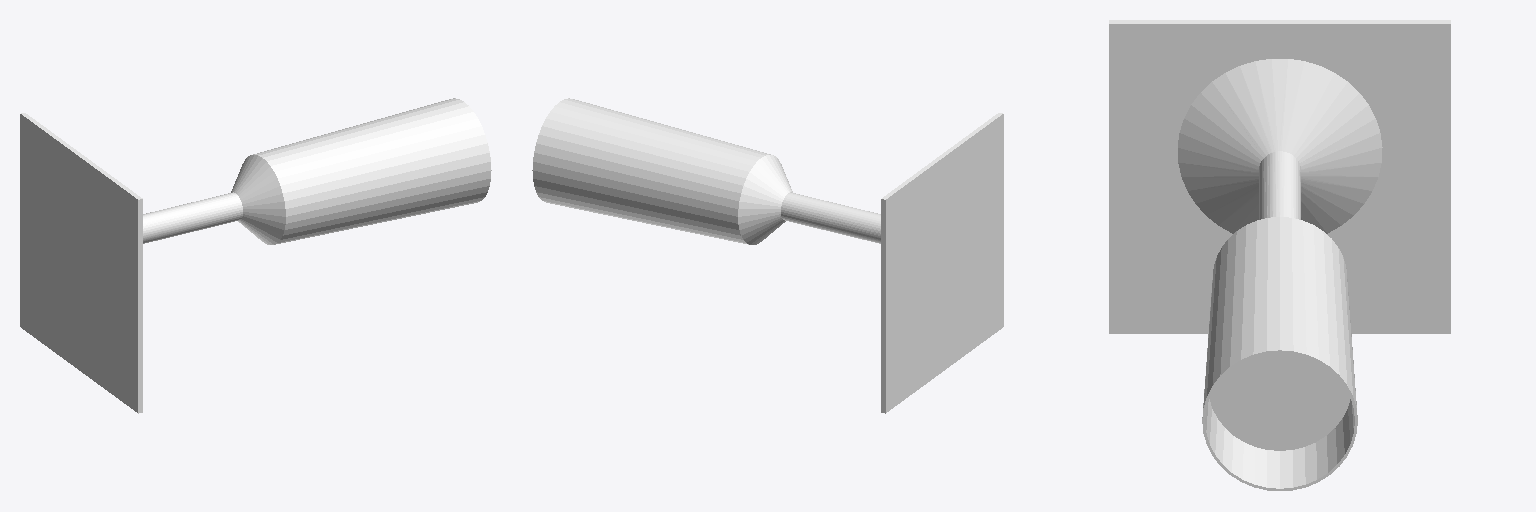
URDF robot description (gen3_robotiq_2f_85):
<?xml version="1.0" ?>
<!-- =================================================================================== -->
<!-- |    This document was autogenerated by xacro from gen3_robotiq_2f_85.xacro       | -->
<!-- |    EDITING THIS FILE BY HAND IS NOT RECOMMENDED                                 | -->
<!-- =================================================================================== -->
<robot name="gen3_robotiq_2f_85">
  <!-- Run the macros -->
  <link name="base">
    <inertial>
      <origin rpy="0 0 0" xyz="-0.000648 -0.000166 0.084487"/>
      <mass value="1.697"/>
      <inertia ixx="0.004622" ixy="9E-06" ixz="6E-05" iyy="0.004495" iyz="9E-06" izz="0.002079"/>
    </inertial>
    <visual>
      <origin rpy="0 0 0" xyz="0 0 0"/>
      <geometry>
        <mesh filename="meshes/base_link.obj"/>
      </geometry>
      <material name="">
        <color rgba="0.75294 0.75294 0.75294 1"/>
      </material>
    </visual>
    <collision>
      <origin rpy="0 0 0" xyz="0 0 0"/>
      <geometry>
        <mesh filename="meshes/base_link.obj"/>
      </geometry>
    </collision>
  </link>

  <link name="shoulder_link">
    <inertial>
      <origin rpy="0 0 0" xyz="-2.3E-05 -0.010364 -0.07336"/>
      <mass value="1.3773"/>
      <inertia ixx="0.00457" ixy="1E-06" ixz="2E-06" iyy="0.004831" iyz="0.000448" izz="0.001409"/>
    </inertial>
    <visual>
      <origin rpy="0 0 0" xyz="0 0 0"/>
      <geometry>
        <mesh filename="meshes/shoulder_link.obj"/>
      </geometry>
      <material name="">
        <color rgba="0.75294 0.75294 0.75294 1"/>
      </material>
    </visual>
    <collision>
      <origin rpy="0 0 0" xyz="0 0 0"/>
      <geometry>
        <mesh filename="meshes/shoulder_link.obj"/>
      </geometry>
    </collision>
  </link>

  <joint name="joint_1" type="continuous">
    <origin rpy="3.1416 2.7629E-18 -4.9305E-36" xyz="0 0 0.15643"/>
    <parent link="base"/>
    <child link="shoulder_link"/>
    <axis xyz="0 0 1"/>
    <limit effort="39" velocity="1.3963"/>
  </joint>

  <link name="half_arm_1_link">
    <inertial>
      <origin rpy="0 0 0" xyz="-4.4E-05 -0.09958 -0.013278"/>
      <mass value="1.1636"/>
      <inertia ixx="0.011088" ixy="5E-06" ixz="0" iyy="0.001072" iyz="-0.000691" izz="0.011255"/>
    </inertial>
    <visual>
      <origin rpy="0 0 0" xyz="0 0 0"/>
      <geometry>
        <mesh filename="meshes/half_arm_1_link.obj"/>
      </geometry>
      <material name="">
        <color rgba="0.75294 0.75294 0.75294 1"/>
      </material>
    </visual>
    <collision>
      <origin rpy="0 0 0" xyz="0 0 0"/>
      <geometry>
        <mesh filename="meshes/half_arm_1_link.obj"/>
      </geometry>
    </collision>
  </link>

  <joint name="joint_2" type="revolute">
    <origin rpy="1.5708 2.1343E-17 -1.1102E-16" xyz="0 0.005375 -0.12838"/>
    <parent link="shoulder_link"/>
    <child link="half_arm_1_link"/>
    <axis xyz="0 0 1"/>
    <limit effort="39" lower="-2.41" upper="2.41" velocity="1.3963"/>
  </joint>

  <link name="half_arm_2_link">
    <inertial>
      <origin rpy="0 0 0" xyz="-4.4E-05 -0.006641 -0.117892"/>
      <mass value="1.1636"/>
      <inertia ixx="0.010932" ixy="0" ixz="-7E-06" iyy="0.011127" iyz="0.000606" izz="0.001043"/>
    </inertial>
    <visual>
      <origin rpy="0 0 0" xyz="0 0 0"/>
      <geometry>
        <mesh filename="meshes/half_arm_2_link.obj"/>
      </geometry>
      <material name="">
        <color rgba="0.75294 0.75294 0.75294 1"/>
      </material>
    </visual>
    <collision>
      <origin rpy="0 0 0" xyz="0 0 0"/>
      <geometry>
        <mesh filename="meshes/half_arm_2_link.obj"/>
      </geometry>
    </collision>
  </link>

  <joint name="joint_3" type="continuous">
    <origin rpy="-1.5708 1.2326E-32 -2.9122E-16" xyz="0 -0.21038 -0.006375"/>
    <parent link="half_arm_1_link"/>
    <child link="half_arm_2_link"/>
    <axis xyz="0 0 1"/>
    <limit effort="39" velocity="1.3963"/>
  </joint>

  <link name="forearm_link">
    <inertial>
      <origin rpy="0 0 0" xyz="-1.8E-05 -0.075478 -0.015006"/>
      <mass value="0.9302"/>
      <inertia ixx="0.008147" ixy="-1E-06" ixz="0" iyy="0.000631" iyz="-0.0005" izz="0.008316"/>
    </inertial>
    <visual>
      <origin rpy="0 0 0" xyz="0 0 0"/>
      <geometry>
        <mesh filename="meshes/forearm_link.obj"/>
      </geometry>
      <material name="">
        <color rgba="0.75294 0.75294 0.75294 1"/>
      </material>
    </visual>
    <collision>
      <origin rpy="0 0 0" xyz="0 0 0"/>
      <geometry>
        <mesh filename="meshes/forearm_link.obj"/>
      </geometry>
    </collision>
  </link>

  <joint name="joint_4" type="revolute">
    <origin rpy="1.5708 -6.6954E-17 -1.6653E-16" xyz="0 0.006375 -0.21038"/>
    <parent link="half_arm_2_link"/>
    <child link="forearm_link"/>
    <axis xyz="0 0 1"/>
    <limit effort="39" lower="-2.66" upper="2.66" velocity="1.3963"/>
  </joint>

  <link name="spherical_wrist_1_link">
    <inertial>
      <origin rpy="0 0 0" xyz="1E-06 -0.009432 -0.063883"/>
      <mass value="0.6781"/>
      <inertia ixx="0.001596" ixy="0" ixz="0" iyy="0.001607" iyz="0.000256" izz="0.000399"/>
    </inertial>
    <visual>
      <origin rpy="0 0 0" xyz="0 0 0"/>
      <geometry>
        <mesh filename="meshes/spherical_wrist_1_link.obj"/>
      </geometry>
      <material name="">
        <color rgba="0.75294 0.75294 0.75294 1"/>
      </material>
    </visual>
    <collision>
      <origin rpy="0 0 0" xyz="0 0 0"/>
      <geometry>
        <mesh filename="meshes/spherical_wrist_1_link.obj"/>
      </geometry>
    </collision>
  </link>

  <joint name="joint_5" type="continuous">
    <origin rpy="-1.5708 2.2204E-16 -6.373E-17" xyz="0 -0.20843 -0.006375"/>
    <parent link="forearm_link"/>
    <child link="spherical_wrist_1_link"/>
    <axis xyz="0 0 1"/>
    <limit effort="9" velocity="1.2218"/>
  </joint>

  <link name="spherical_wrist_2_link">
    <inertial>
      <origin rpy="0 0 0" xyz="1E-06 -0.045483 -0.00965"/>
      <mass value="0.6781"/>
      <inertia ixx="0.001641" ixy="0" ixz="0" iyy="0.00041" iyz="-0.000278" izz="0.001641"/>
    </inertial>
    <visual>
      <origin rpy="0 0 0" xyz="0 0 0"/>
      <geometry>
        <mesh filename="meshes/spherical_wrist_2_link.obj"/>
      </geometry>
      <material name="">
        <color rgba="0.75294 0.75294 0.75294 1"/>
      </material>
    </visual>
    <collision>
      <origin rpy="0 0 0" xyz="0 0 0"/>
      <geometry>
        <mesh filename="meshes/spherical_wrist_2_link.obj"/>
      </geometry>
    </collision>
  </link>

  <joint name="joint_6" type="revolute">
    <origin rpy="1.5708 9.2076E-28 -8.2157E-15" xyz="0 0.00017505 -0.10593"/>
    <parent link="spherical_wrist_1_link"/>
    <child link="spherical_wrist_2_link"/>
    <axis xyz="0 0 1"/>
    <limit effort="9" lower="-2.23" upper="2.23" velocity="1.2218"/>
  </joint>

  <link name="bracelet_link">
    <inertial>
      <!-- This is different from the documentation -->
      <origin rpy="0 0 0" xyz="0.000281 0.011402 -0.029798"/>
      <mass value="0.5"/>
      <inertia ixx="0.000587" ixy="3E-06" ixz="3E-06" iyy="0.000369" iyz="-0.000118" izz="0.000609"/>
    </inertial>
    <visual>
      <origin rpy="0 0 0" xyz="0 0 0"/>
      <geometry>
        <mesh filename="meshes/bracelet_with_vision_link.obj"/>
      </geometry>
      <material name="">
        <color rgba="0.75294 0.75294 0.75294 1"/>
      </material>
    </visual>
    <collision>
      <origin rpy="0 0 0" xyz="0 0 0"/>
      <geometry>
        <mesh filename="meshes/bracelet_with_vision_link.obj"/>
      </geometry>
    </collision>
  </link>

  <joint name="joint_7" type="continuous">
    <origin rpy="-1.5708 -5.5511E-17 9.6396E-17" xyz="0 -0.10593 -0.00017505"/>
    <parent link="spherical_wrist_2_link"/>
    <child link="bracelet_link"/>
    <axis xyz="0 0 1"/>
    <limit effort="9" velocity="1.2218"/>
  </joint>

  <!-- gripper code -->


  <joint name="gripper_base_joint" type="fixed">
    <!--
    <parent link="end_effector_link"/>
  -->
    <parent link="bracelet_link"/>
    <child link="gripper_base"/>
    <origin rpy="1.5707 0.0 0.0" xyz="0.0 0.0 -0.0615250000000001"/>
    <!-- 1.57 -->
  </joint>

  <link name="gripper_base">
    <inertial>
      <origin rpy="0 0 0" xyz="6.91E-06 4.4117E-06 0.031656"/>
      <mass value="0.60831"/>
      <inertia ixx="0.0004596" ixy="1.5559E-09" ixz="1.397E-07" iyy="0.0005181" iyz="-1.0325E-11" izz="0.00036051"/>
    </inertial>
    <visual>
      <origin rpy="0 0 0" xyz="0 0 0"/>
      <geometry>
        <mesh filename="meshes/base_of_gripper.obj"/>
      </geometry>
      <material name="">
        <color rgba="0.89804 0.91765 0.92941 0.25"/>
      </material>
    </visual>
    <collision>
      <origin rpy="0 0 0" xyz="0 0 0"/>
      <geometry>
        <mesh filename="meshes/base_of_gripper.obj"/>
      </geometry>
    </collision>
  </link>

  <!-- tray and object code -->


  <joint name="waiter_tray_joint" type="fixed">
     <origin rpy="0 1.5707 0" xyz="0 -0.14948 0" />
     <parent link="gripper_base" />
     <child link="waiter_tray_link" />
  </joint>

  <!-- need to add known inertia values. assumed that the joint is aligned with the 
  principal axes of the tray. Currently assuming that the tray is grasped at the 
  COM? Need to change so that there is ixy etc? -->

  <link name="waiter_tray_link">
    <inertial>
      <origin rpy="0 0 0" xyz="0 -0.05717 0" />
      <mass value="0.04394" /> <!-- updated: printed tray is 1.55 ounces, including tracking markers -->
      <inertia ixx="0.00003615" ixy="0" ixz="0" iyy="0.00003615" iyz="0" izz="0.00007225" /> <!-- updated -->
    </inertial>
    <visual>
      <origin rpy="0 0 0" xyz="0 0 0"/>
      <geometry>
        <mesh filename="meshes/plate_shifted_scaled_origin_v3.obj" />
          <!-- scale="0.001 0.001 0.001" -->
      </geometry>
      <material name="">
      <color rgba="1 1 1 1" />
      </material>
    </visual>
    <collision>
      <origin rpy="0 0 0" xyz="0 0 0"/>
      <geometry>
        <mesh filename="meshes/plate_shifted_scaled_origin_v3.obj" />
          <!-- scale="0.001 0.001 0.001" -->
      </geometry>
    </collision>
  </link>

<!-- Need to add the cup here -->

  <!-- Joint 10 -->
  <joint name="contact_joint" type="fixed">
  <!-- updated for champagne glass -->
     <origin rpy="0 0 0" xyz="0 -0.06735 0.00127" /> 
     <parent link="waiter_tray_link" />
     <child link="cube_link" />
  </joint>

  <link name="cube_link">
  <!-- updated for champagne glass -->
    <inertial>
      <origin rpy="0 0 0" xyz="0 0 0.0689" />
        <!-- the CoM of real life 0.13773 -->
      <mass value="0.604" /> 
      <inertia ixx="0.00086603273" ixy="0.0" ixz="0.0" iyy="0.00086603273" iyz="0.0" izz="0.00017386399" />
    </inertial>
    <visual>
      <origin rpy="0 0 0" xyz="0 0 0" />
      <geometry>
        <mesh filename="meshes/ChampagneGlassShiftedRotatedScaled_v4.obj" />
      </geometry>
      <material name="">
        <color rgba="1 1 1 1" />
      </material>
    </visual>
    <collision>
      <origin rpy="0 0 0" xyz="0 0 0" />
      <geometry>
        <mesh filename="meshes/ChampagneGlassShiftedRotatedScaled_v4.obj" />
      </geometry>
    </collision>
  </link>


</robot>

--- Render facts (derived) ---
3 views of the same robot in one strip: view 1: azimuth 30°, elevation 25°; view 2: azimuth 150°, elevation 25°; view 3: azimuth 270°, elevation 25° (orthographic).
Robot: gen3_robotiq_2f_85 — 11 links, 10 joints (3 revolute, 4 continuous, 3 fixed); root link base; default pose: all joints at 0.
Links seen in each view (by area): view 1: cube_link, waiter_tray_link; view 2: cube_link, waiter_tray_link; view 3: waiter_tray_link, cube_link.
Boxes of the visible links, bbox=[...] form: cube_link: bbox=[143, 98, 491, 244]; waiter_tray_link: bbox=[20, 113, 142, 413]; cube_link: bbox=[532, 98, 880, 244]; waiter_tray_link: bbox=[881, 113, 1003, 413]; waiter_tray_link: bbox=[1109, 20, 1450, 333]; cube_link: bbox=[1178, 59, 1382, 490].
Size in the robot's own frame: 0.2155 by 0.1143 by 0.1143 metres.
2 mesh visuals loaded from 11 distinct referenced files (2 OBJ); not drawn: 9 (reference not matched to a file when rendering).